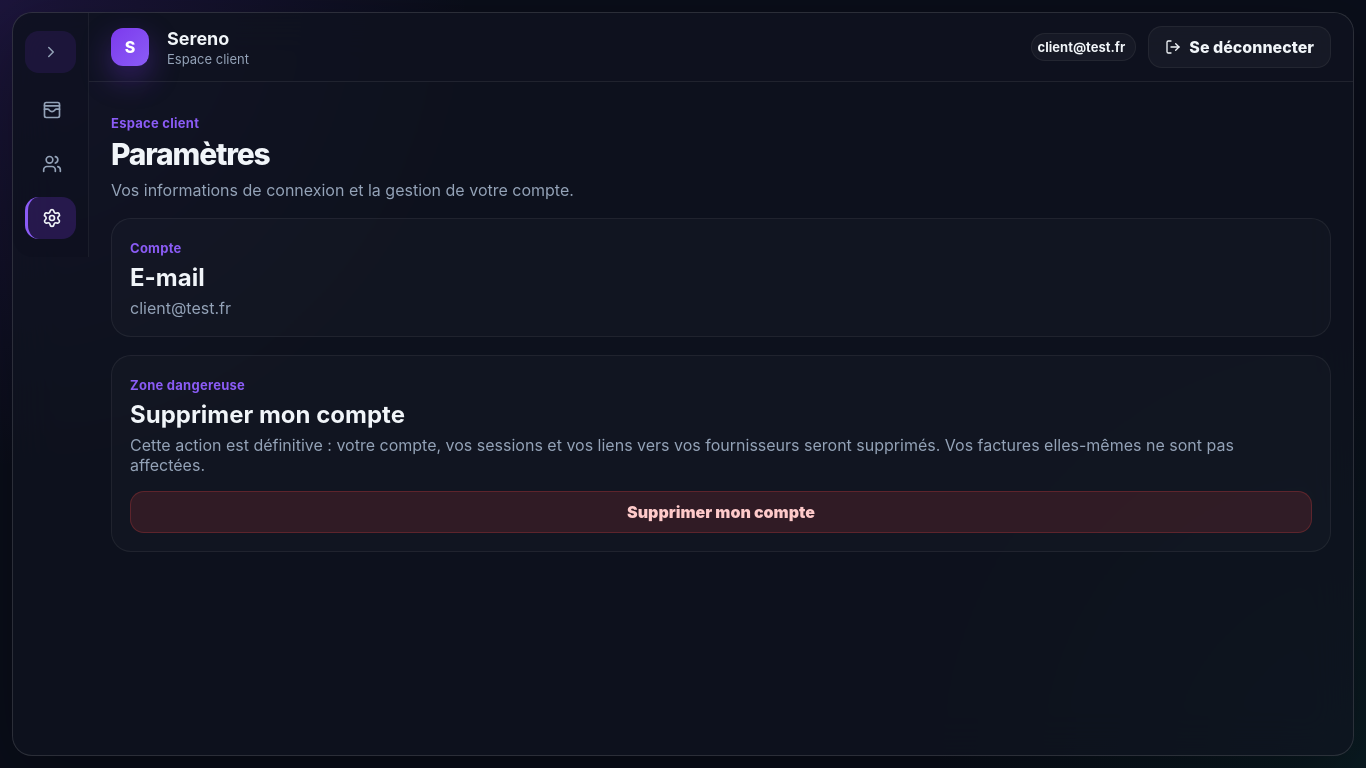
EspaceClientParametresPage › mauvais mot de passe -> message d'erreur, compte NON supprimé côté front
Click the button "Supprimer mon compte" at (721, 512), box [130,491,1312,533]
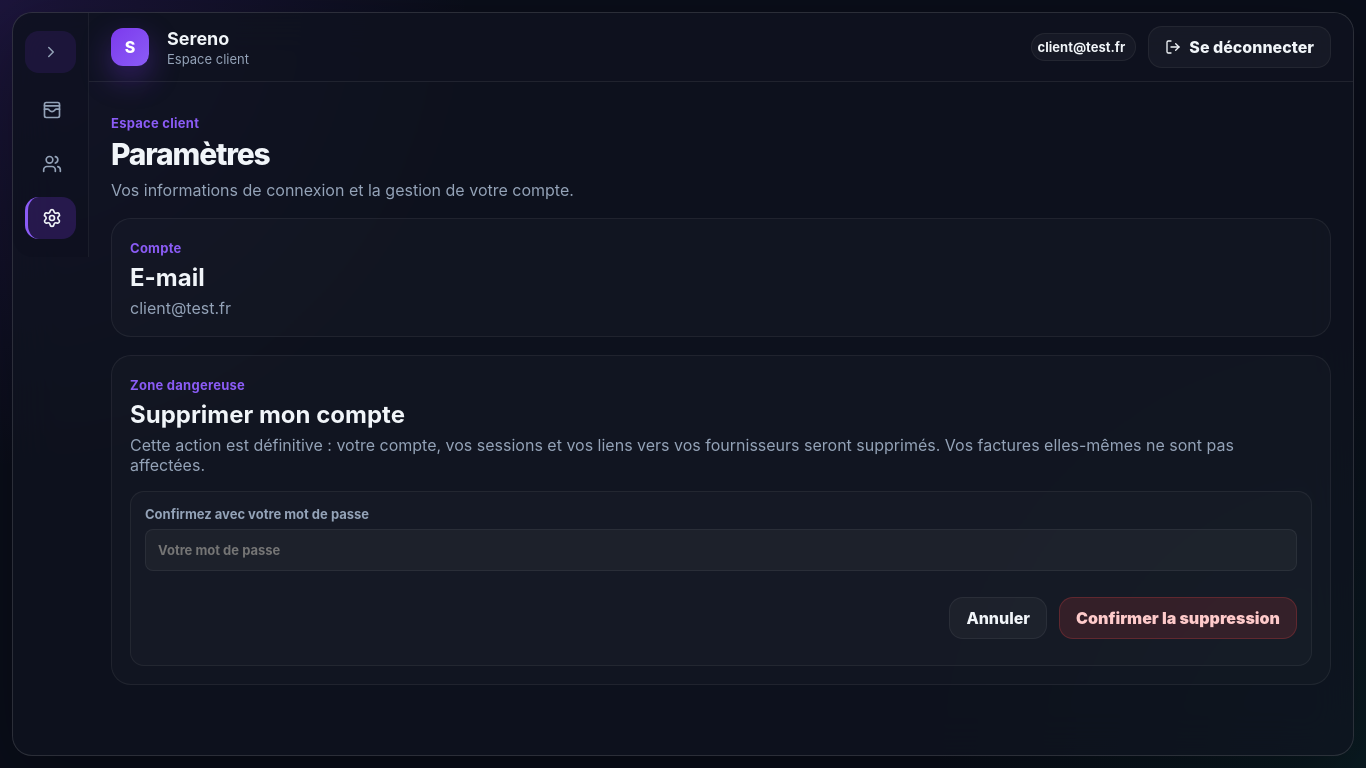
Type "mauvais" into the password field with placeholder "votre mot de passe" at (721, 550), box [145,529,1297,571]
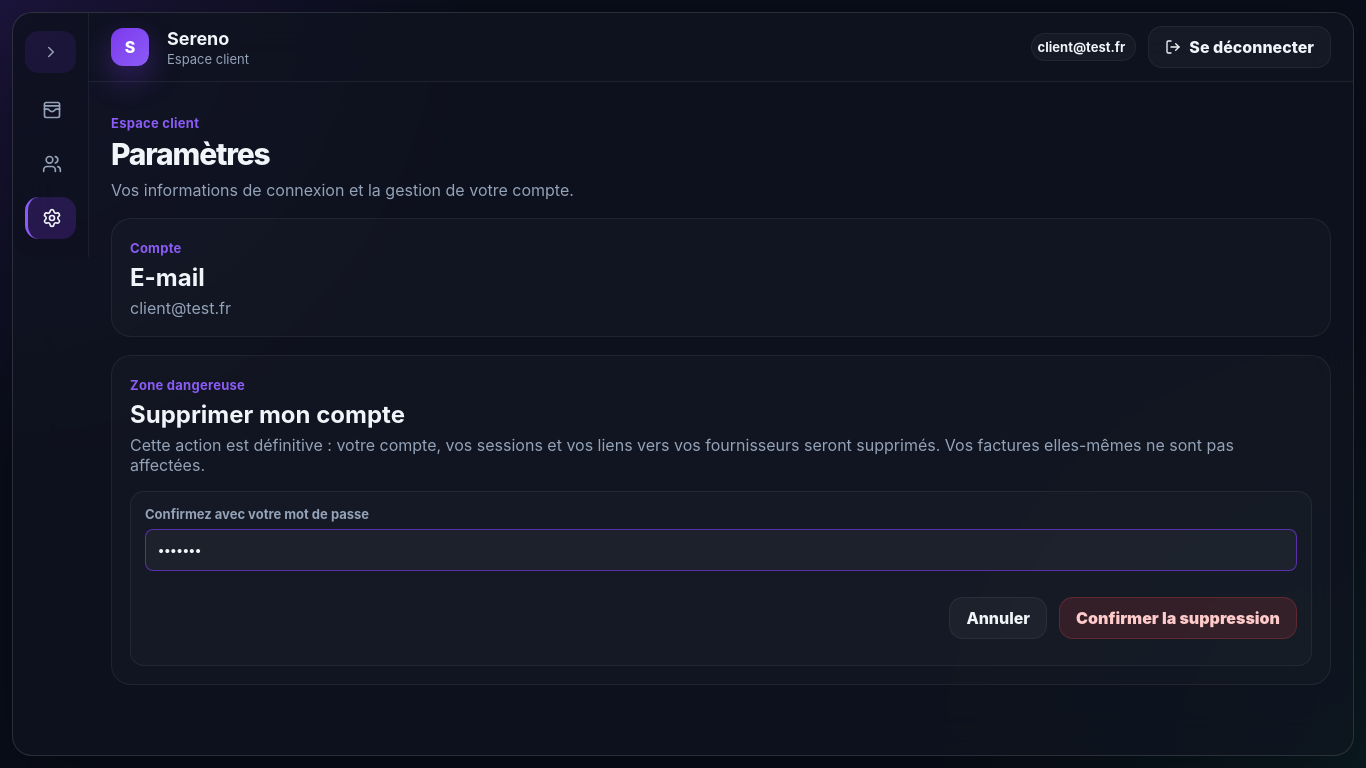
Click the button "Confirmer la suppression" at (1178, 618), box [1059,597,1297,639]
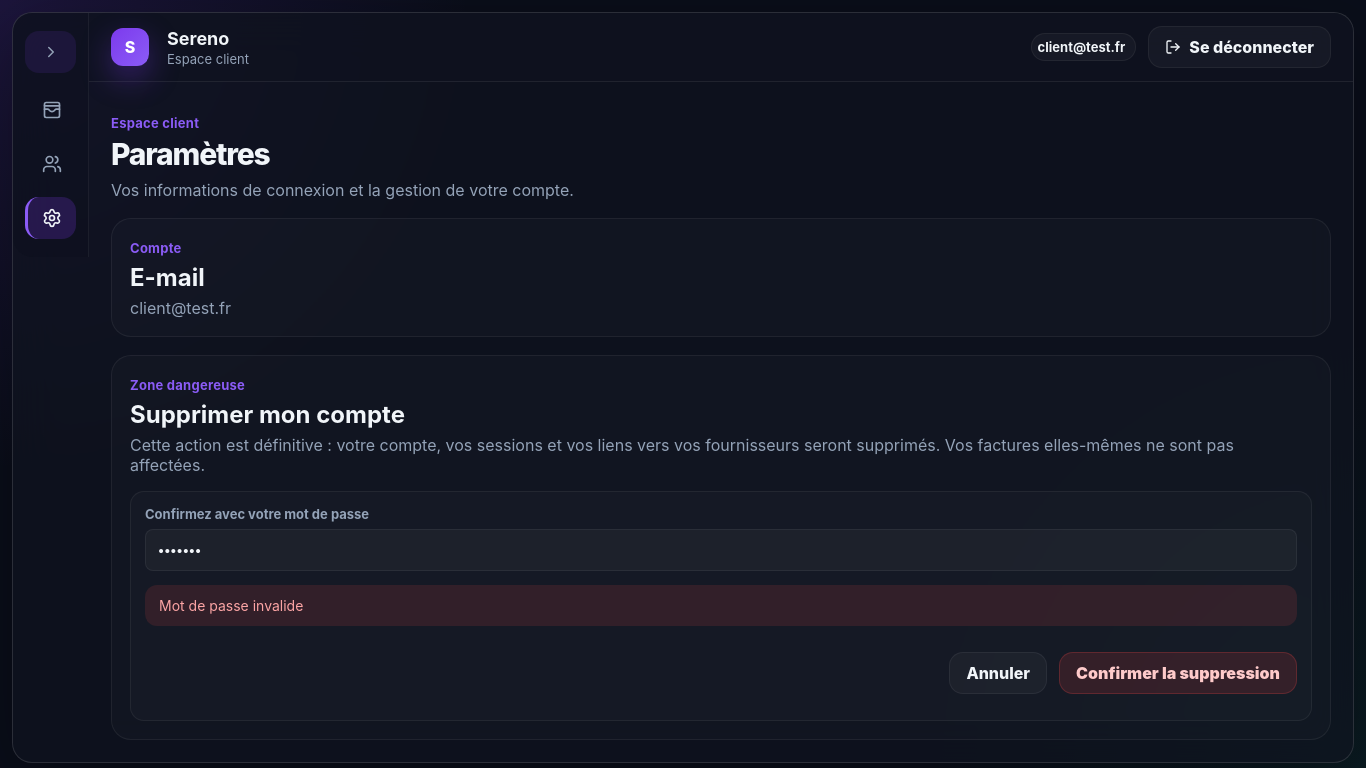
expect the text "client@test.fr" in the row of "Sereno" is shown: met, box [1038,39,1125,55]
expect the text "Mot de passe invalide" is shown: met, box [145,585,1297,626]
